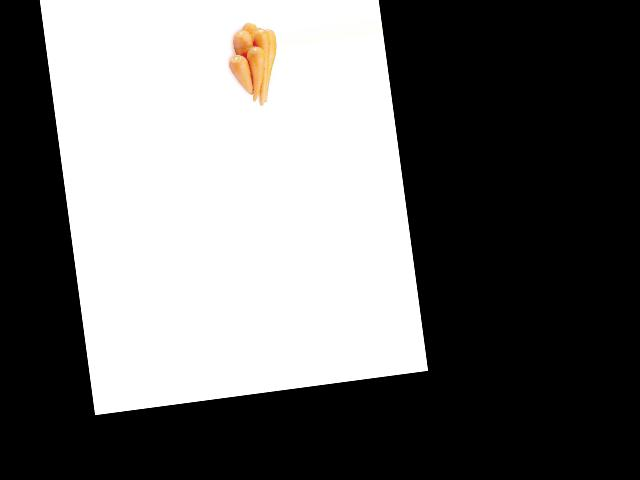carrot: (226, 53, 254, 100)
